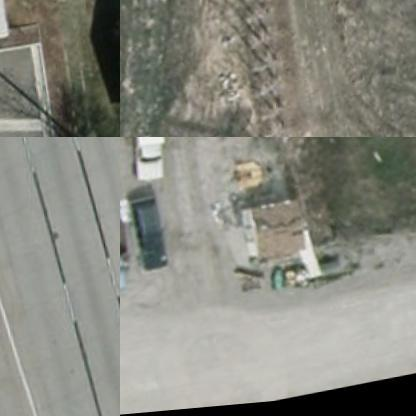car: (124, 194, 166, 276)
pickup: (123, 137, 166, 188)
